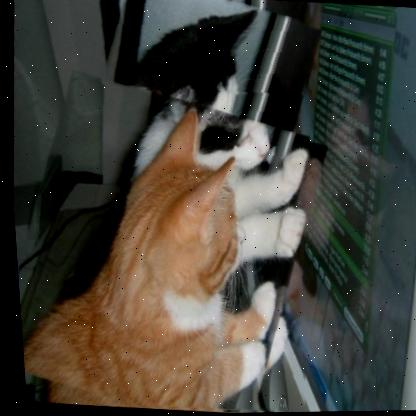cat: (5, 73, 332, 416), (71, 0, 324, 246)
